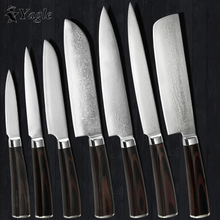knief: (147, 14, 213, 216)
